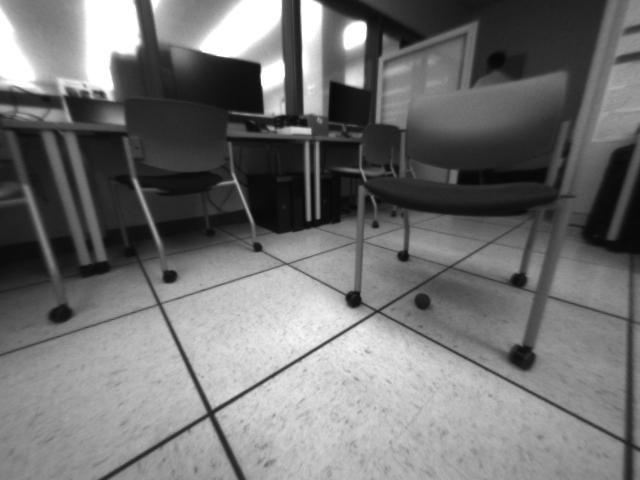dogtoy: (410, 287, 434, 312)
